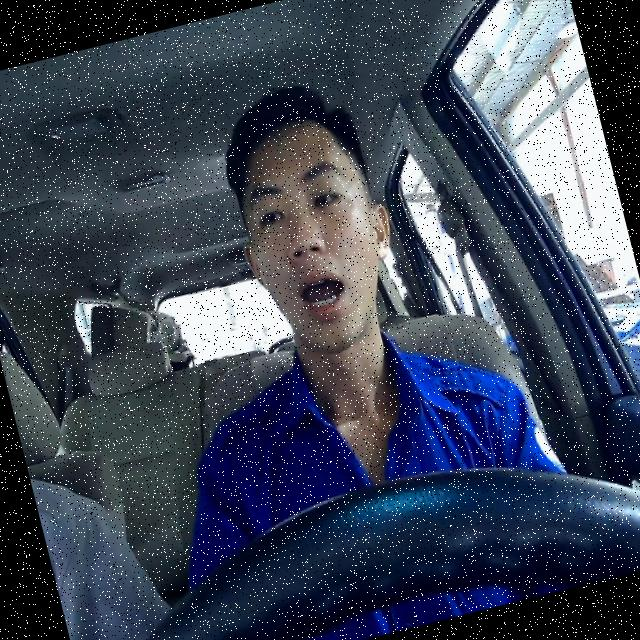yarning: (211, 98, 415, 367)
